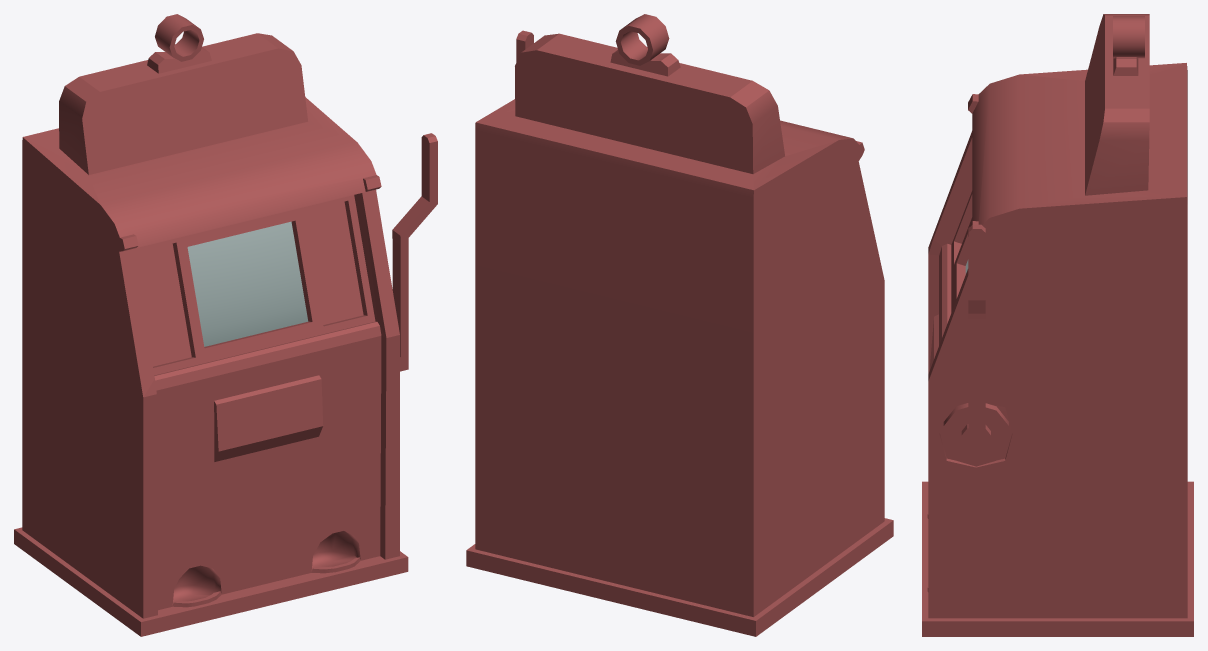
The model's file is One-Armed Bandit.fbx.
3 renders of one model, left to right at view 1: azimuth 30°, elevation 25°; view 2: azimuth 150°, elevation 25°; view 3: azimuth 270°, elevation 25°, orthographic. The views are drawn at different scales.
Visible parts, largest first — view 1: pPipe3, pCylinder1; view 2: pPipe3; view 3: pPipe3.
Boxes of the visible parts, box(x1,y1,x2,y2) form: pPipe3: box(14, 14, 437, 636); pCylinder1: box(187, 222, 307, 346); pPipe3: box(466, 14, 893, 636); pPipe3: box(922, 14, 1193, 636).
Size of the model in its own units: 18.41 by 28.32 by 12.71.
